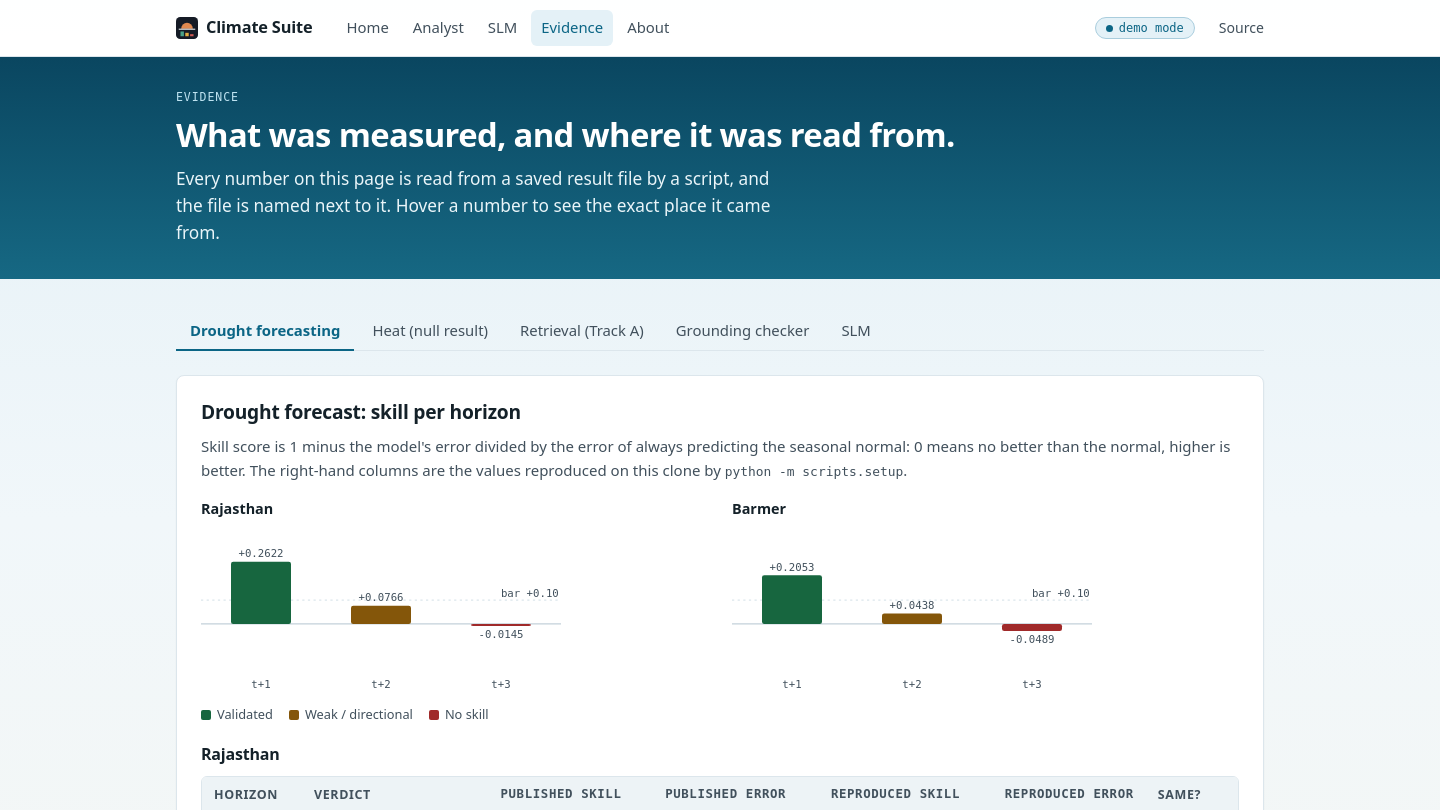
Test: static pages › Evidence SLM tab: the quoted tables say which adapter is published
Click the tab "SLM": (856, 331) [827,310,885,351]
(page scrolled)
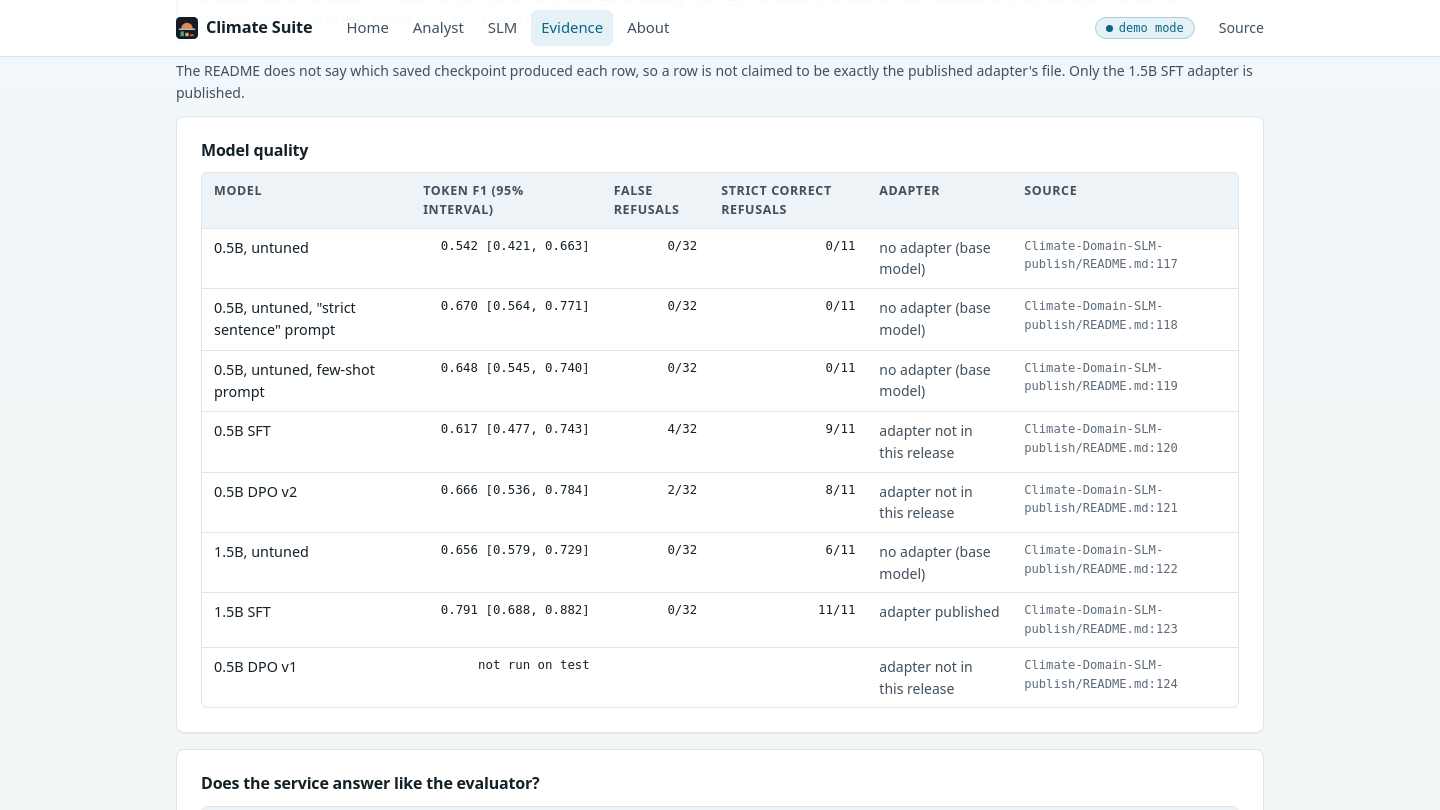
Now the text "adapter not in this release" in the row of "0.617 [0.477, 0.743]" is shown, box [879,421,973,462]
